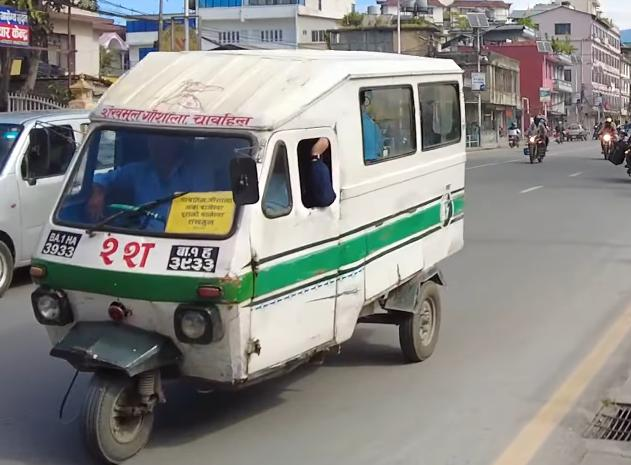bike: (523, 126, 553, 165)
tempo: (22, 35, 477, 465)
